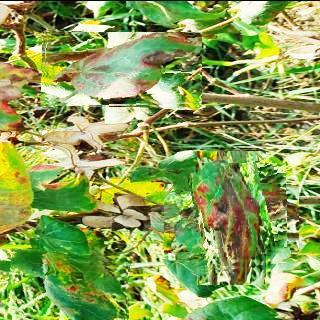blight: (176, 162, 287, 273), (7, 251, 129, 320)
leaf spot: (41, 31, 202, 108)
